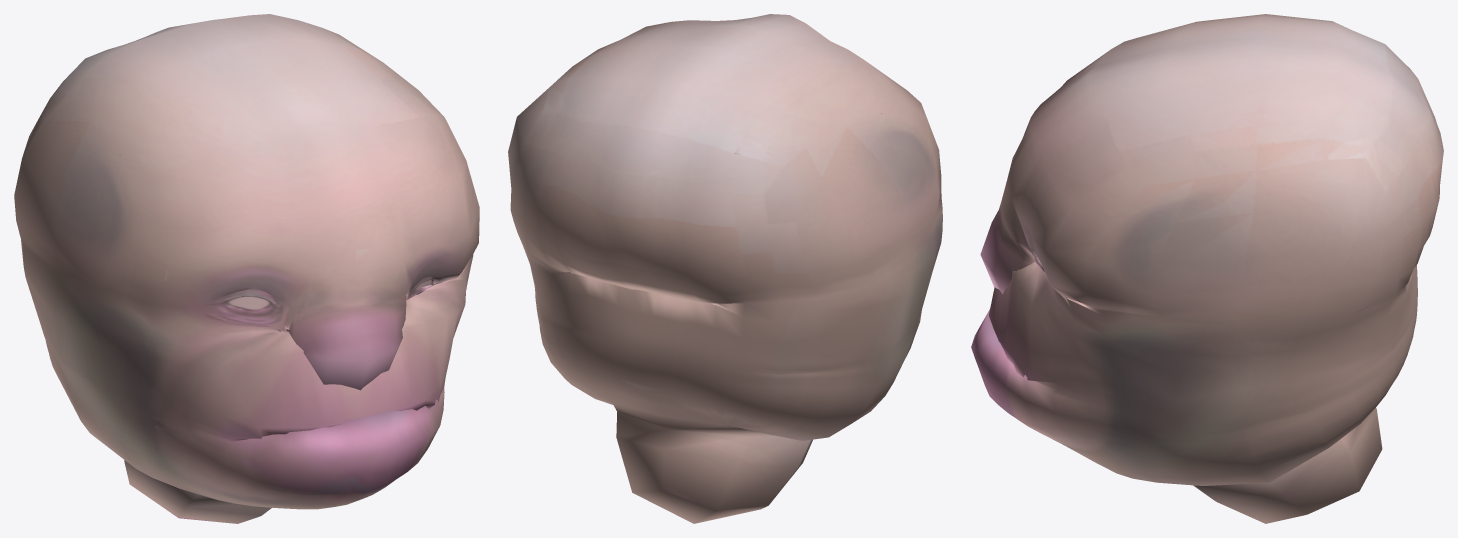
File: SM_Amir00.001.fbx
The picture shows the model from 3 angles, left to right: view 1: azimuth 30°, elevation 25°; view 2: azimuth 150°, elevation 25°; view 3: azimuth 270°, elevation 25°; orthographic projection. The views are drawn at different scales.
Parts seen in each view (by area): view 1: SM_Amir00.001; view 2: SM_Amir00.001; view 3: SM_Amir00.001.
Boxes of the visible parts, <box> form: SM_Amir00.001: <box>14,14,479,523</box>; SM_Amir00.001: <box>508,14,942,523</box>; SM_Amir00.001: <box>971,14,1443,523</box>.
Bounding box in the file's own units: 32.56 × 38.41 × 35.52.
